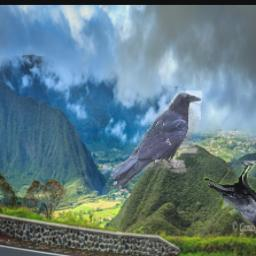Crow: (110, 91, 202, 189), (203, 161, 256, 233)
